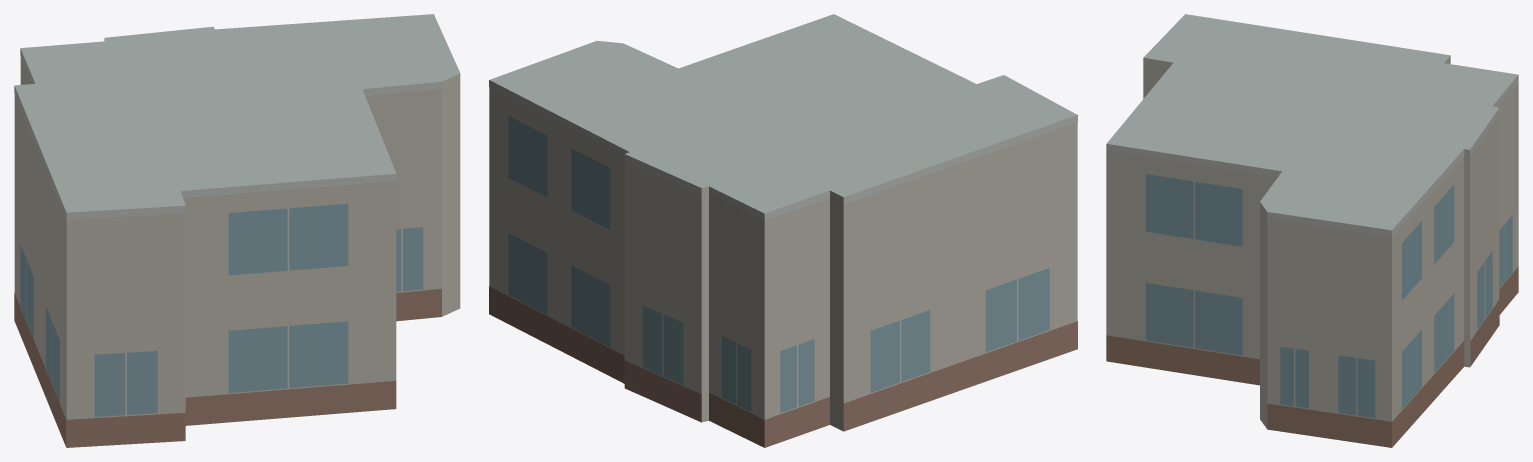
File: survey-upis-32541374.glb
3 renders of one model, left to right at view 1: azimuth 30°, elevation 25°; view 2: azimuth 150°, elevation 25°; view 3: azimuth 270°, elevation 25°, orthographic. The views are drawn at different scales.
Parts seen in each view (by area): view 1: survey-upis-32541374.tmp; view 2: survey-upis-32541374.tmp; view 3: survey-upis-32541374.tmp.
Part boxes in pixels (<box>): survey-upis-32541374.tmp: <box>14,14,460,447</box>; survey-upis-32541374.tmp: <box>489,14,1077,447</box>; survey-upis-32541374.tmp: <box>1106,14,1518,447</box>.
Bounding box in the file's own units: 16.85 × 7.9 × 13.57.
